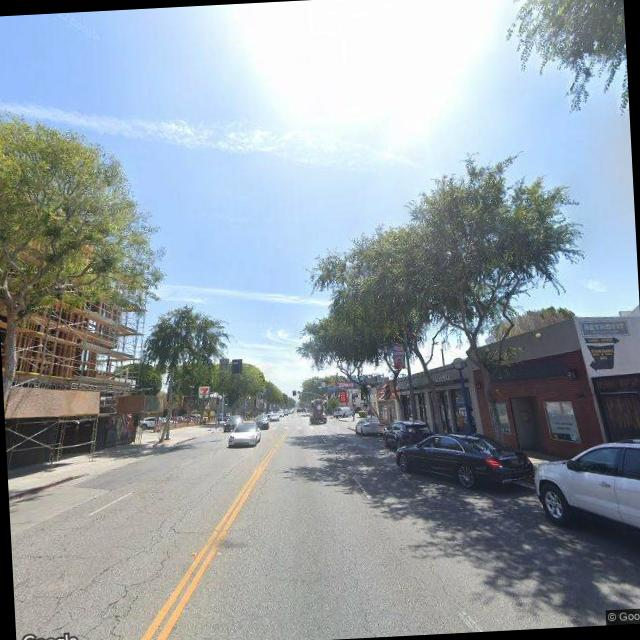crack: (28, 489, 227, 640)
pothole: (334, 536, 378, 638)
